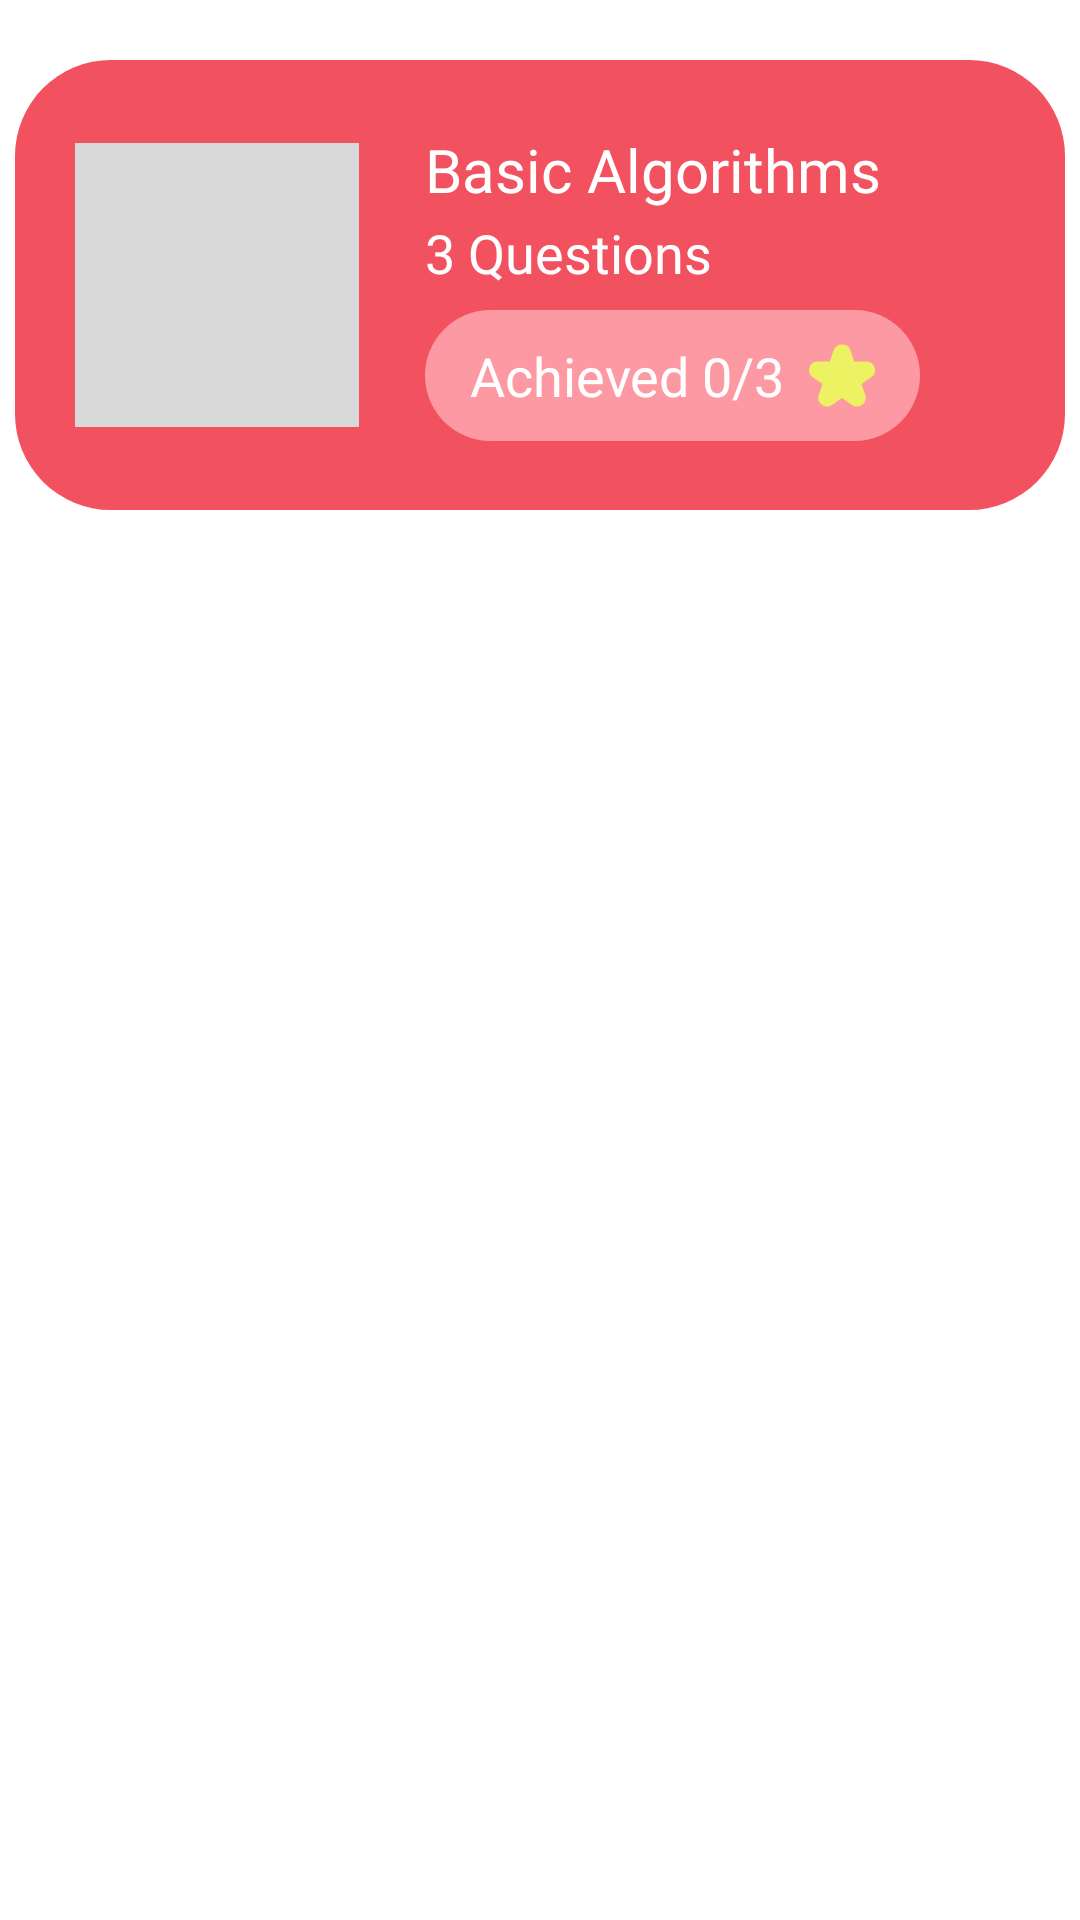

Icons on this 1080×1920 Android screen, each with its box as {"left": x1, "top": y1, "right": x2, "bottom": y2}:
star: {"left": 809, "top": 344, "right": 875, "bottom": 407}
